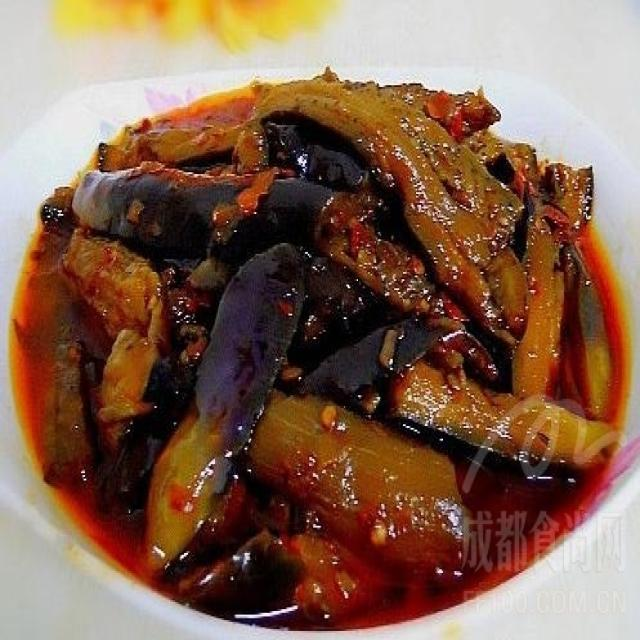鸡蛋料理: (22, 69, 623, 615)
